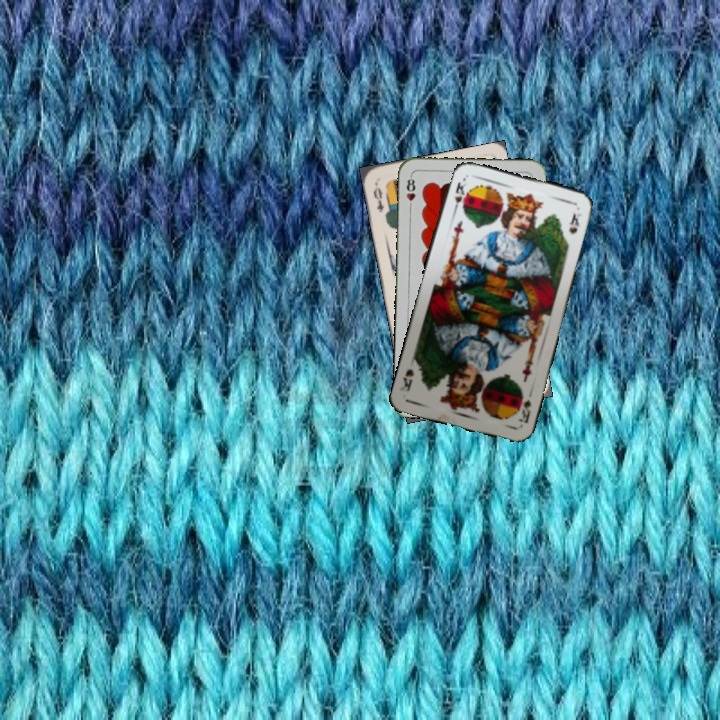EO: (369, 179, 387, 215)
H8: (402, 172, 418, 212)
SK: (449, 178, 469, 214), (513, 395, 534, 426)
